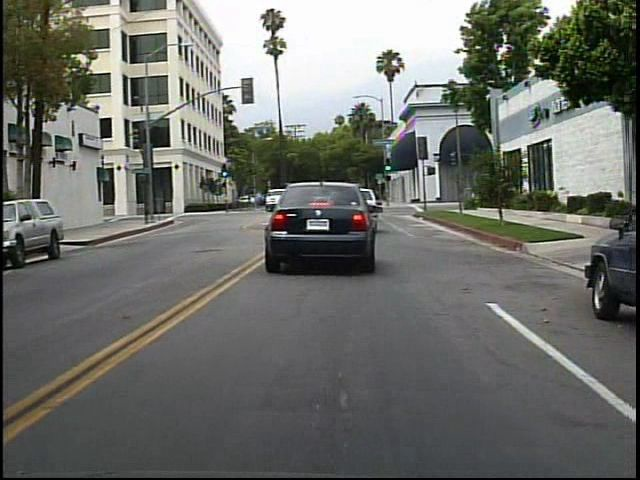person: (297, 183, 323, 221)
